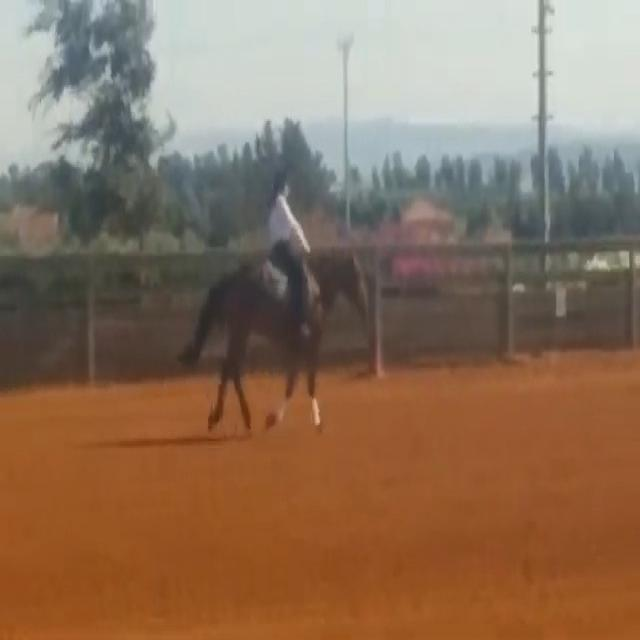horse: (177, 238, 374, 436)
